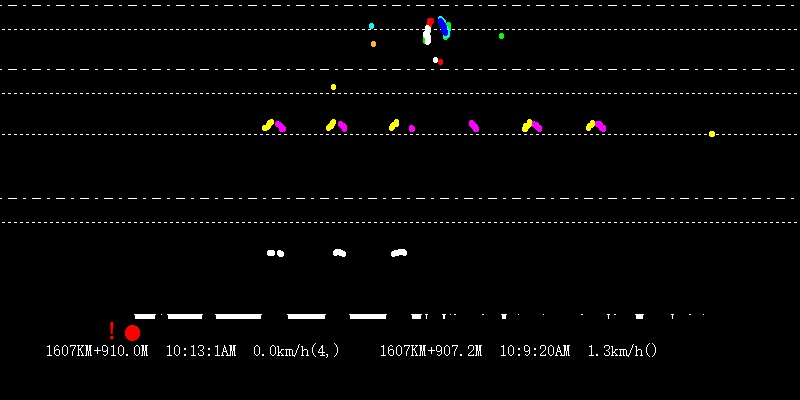J: (412, 2, 453, 50)
circle: (122, 322, 143, 344)
face_down: (494, 21, 510, 43)
face_up: (366, 16, 376, 35)
